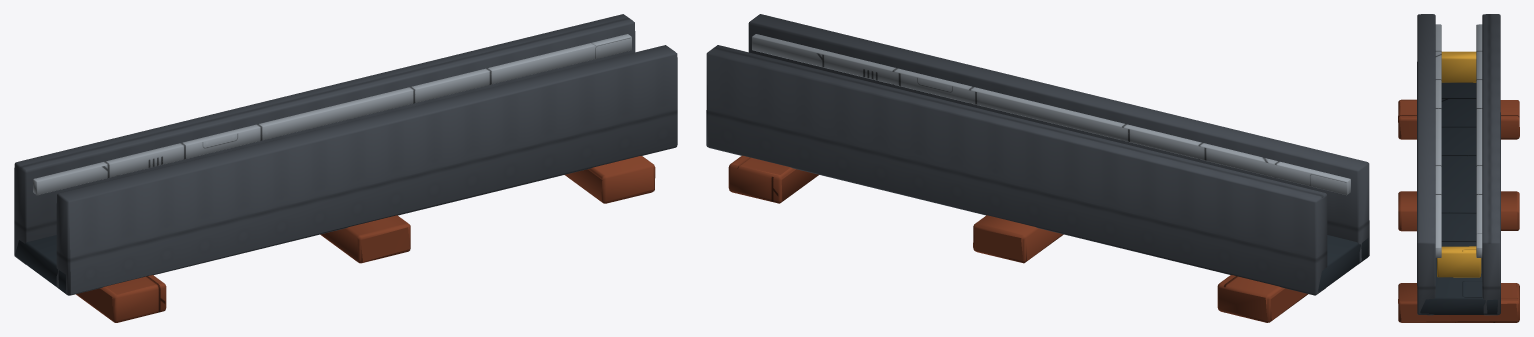
File: ops_bulkhead_guide_rail_lod1.glb
The picture shows the model from 3 angles, left to right: view 1: azimuth 30°, elevation 25°; view 2: azimuth 150°, elevation 25°; view 3: azimuth 270°, elevation 25°; orthographic projection. The views are drawn at different scales.
Parts seen in each view (by area): view 1: LOD1_Mechanical, LOD1_BrushedMetal, LOD1_Hull, LOD1_Armor; view 2: LOD1_Mechanical, LOD1_BrushedMetal, LOD1_Hull, LOD1_Armor; view 3: LOD1_Mechanical, LOD1_Armor, LOD1_Hull, LOD1_BrushedMetal, LOD1_Livery.
Part boxes in pixels (x1,y1,x2,y2): LOD1_Mechanical: (14, 14, 677, 295); LOD1_BrushedMetal: (33, 34, 631, 195); LOD1_Hull: (76, 156, 655, 322); LOD1_Armor: (15, 235, 65, 293); LOD1_Mechanical: (706, 14, 1369, 295); LOD1_BrushedMetal: (752, 34, 1350, 195); LOD1_Hull: (728, 155, 1308, 322); LOD1_Armor: (1318, 235, 1368, 291); LOD1_Mechanical: (1417, 14, 1500, 315); LOD1_Armor: (1420, 82, 1497, 314); LOD1_Hull: (1398, 99, 1519, 322); LOD1_BrushedMetal: (1435, 24, 1482, 257); LOD1_Livery: (1437, 51, 1481, 277).
Bounding box in the file's own units: 4 × 0.7678 × 0.8977.
5 materials, 5 textured.
